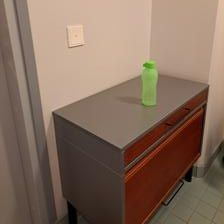bottle: (139, 57, 161, 108)
